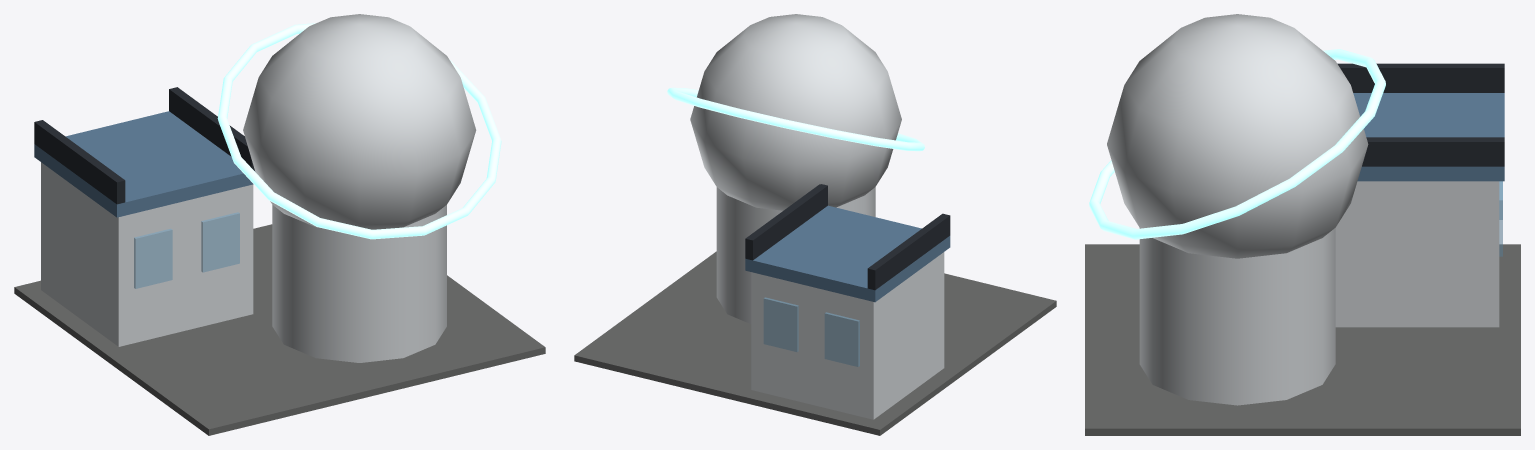
Rendered from bld_special_radar_a09.glb.
3 renders of one model, left to right at view 1: azimuth 30°, elevation 25°; view 2: azimuth 150°, elevation 25°; view 3: azimuth 270°, elevation 25°, orthographic. The views are drawn at different scales.
Parts seen in each view (by area): view 1: body; view 2: body; view 3: body.
Part boxes in pixels (x1,y1,x2,y2): body: (14, 14, 545, 435); body: (574, 14, 1056, 435); body: (1085, 14, 1520, 435).
Size of what is drawn, in the model's own units: 8.2 by 7 by 8.
